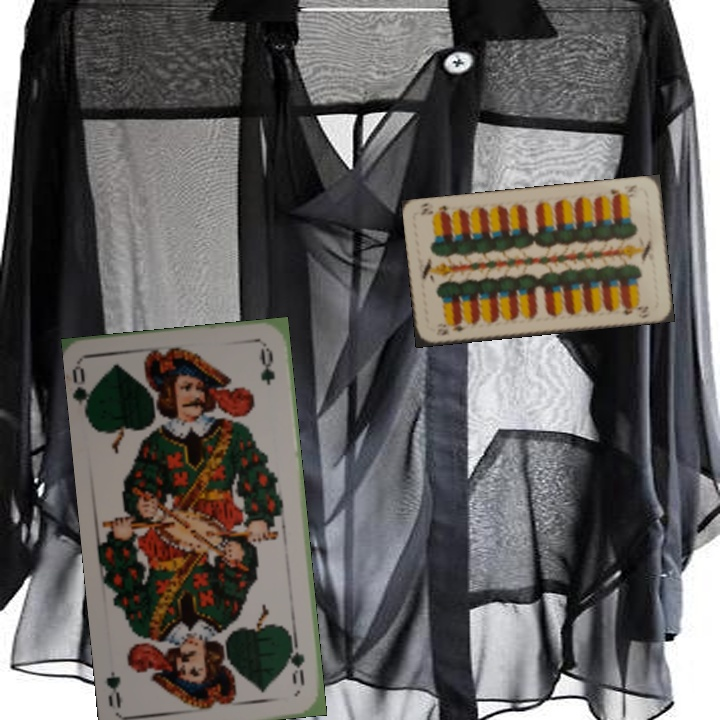E10: (606, 181, 639, 202), (437, 318, 469, 338)
GO: (70, 362, 99, 420), (285, 632, 307, 688)
